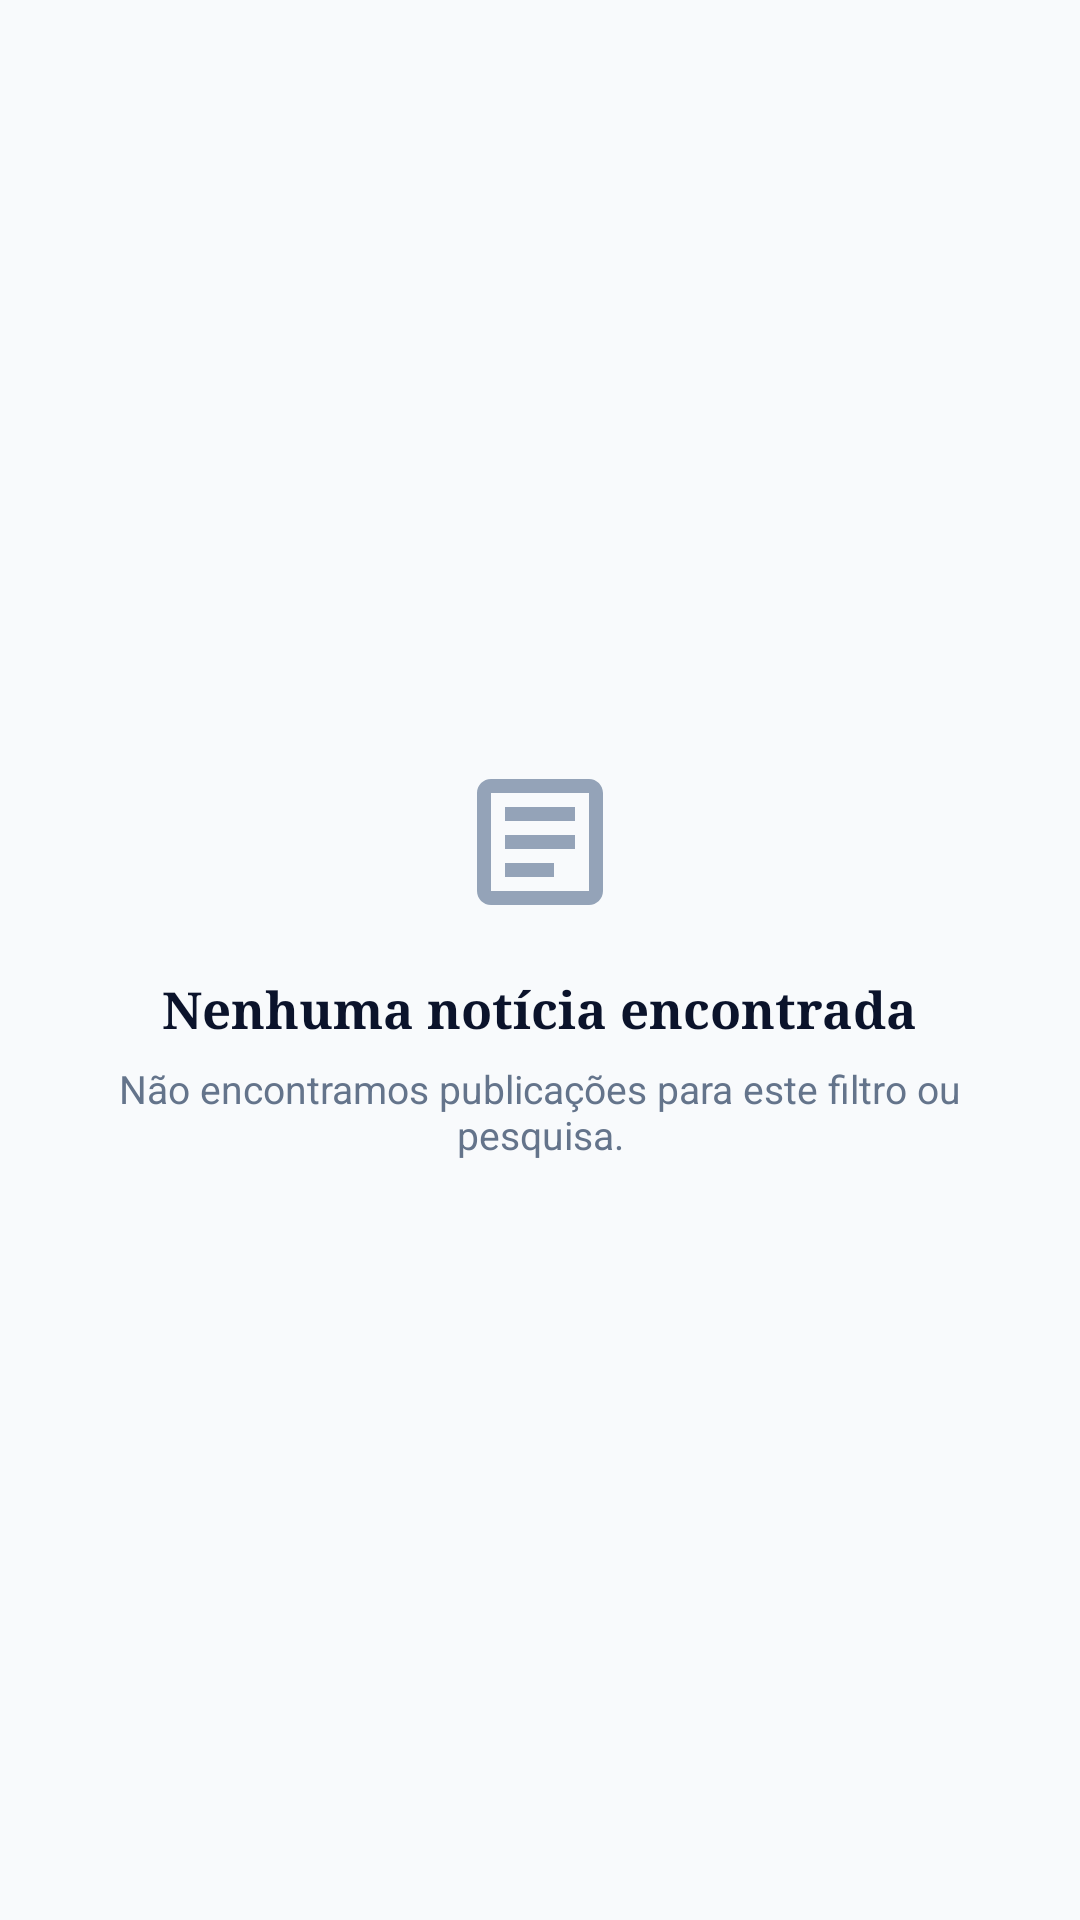

Where to tap for icons on this 1080w x 1920h app screen, as (x=x, y=y):
news: (x=540, y=842)
